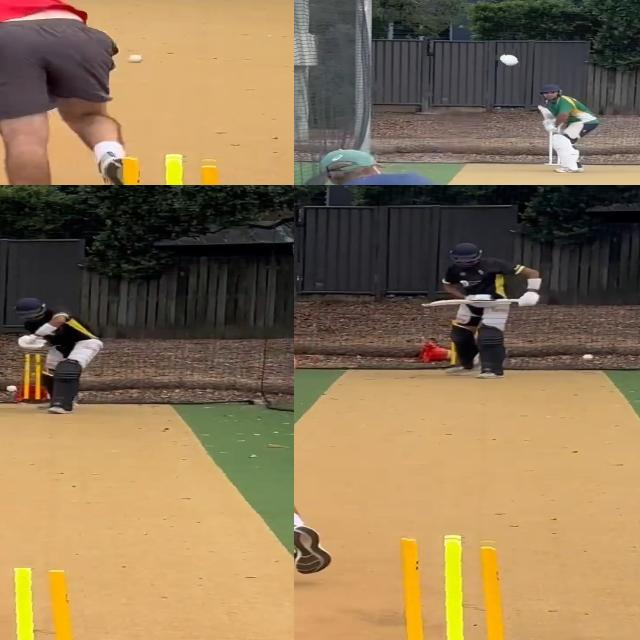Cricket ball: (496, 52, 522, 67), (126, 53, 145, 64), (7, 384, 20, 393), (582, 354, 594, 361)
Stumps: (381, 534, 512, 640), (0, 568, 83, 640)
